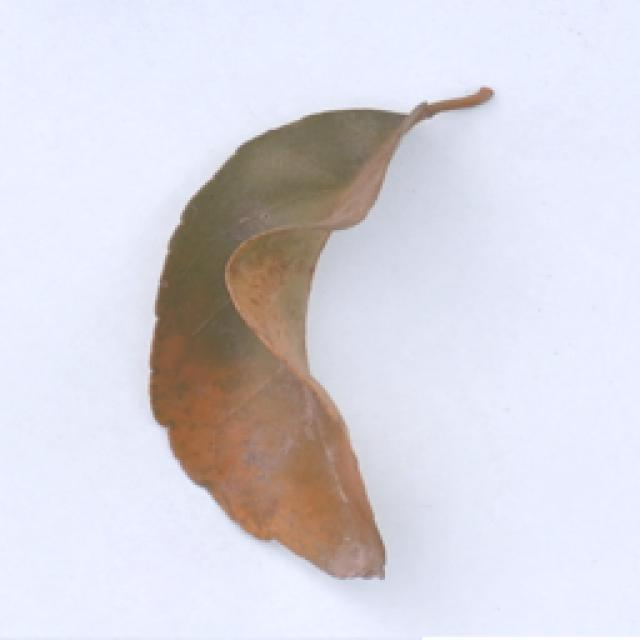blackspot: (144, 77, 507, 584)
